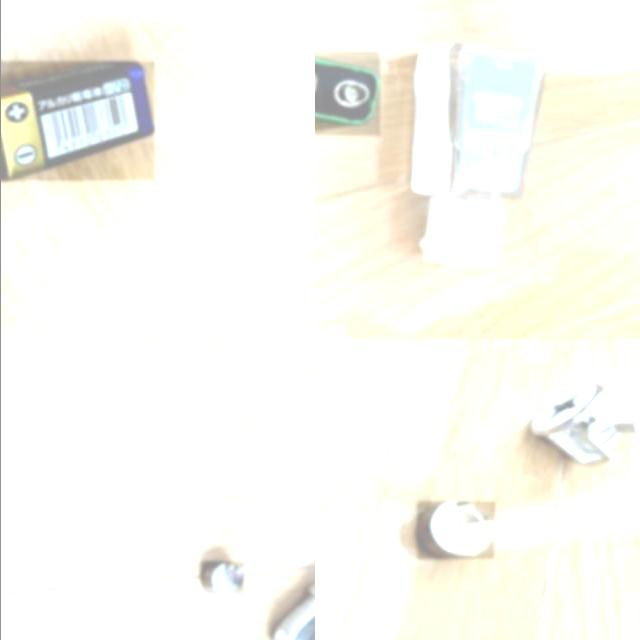9V: (0, 60, 154, 181), (314, 51, 379, 136)
